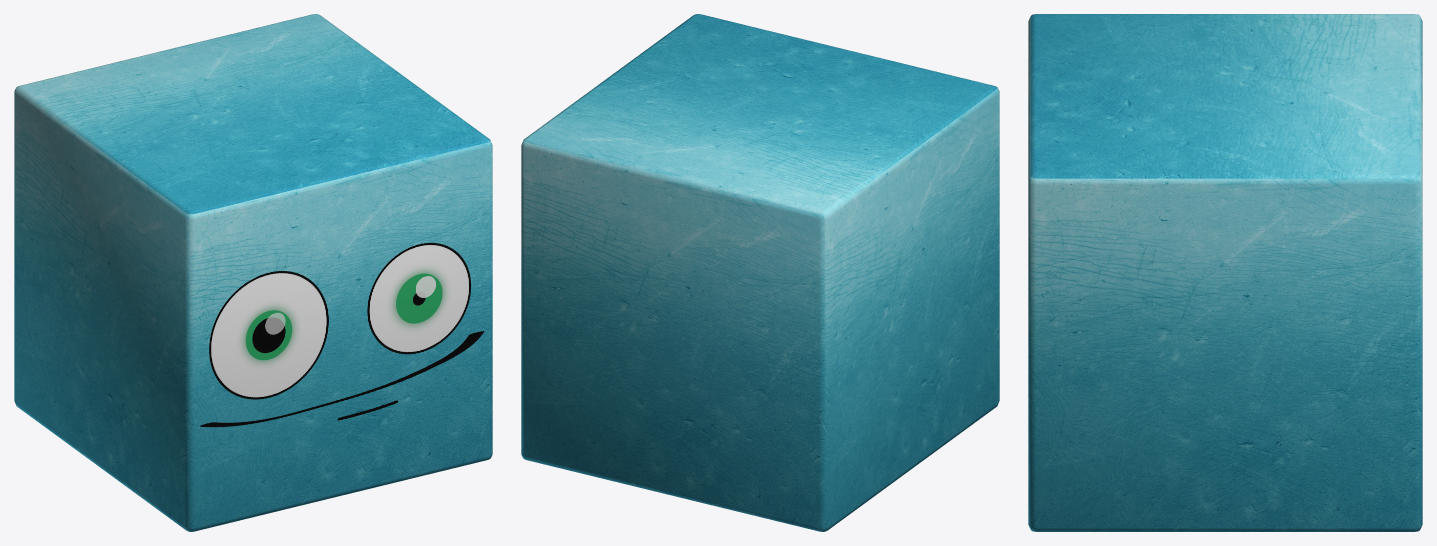
File: Rubber.FBX
The picture shows the model from 3 angles, left to right: view 1: azimuth 30°, elevation 25°; view 2: azimuth 150°, elevation 25°; view 3: azimuth 270°, elevation 25°; orthographic projection. The views are drawn at different scales.
Parts seen in each view (by area): view 1: hooker; view 2: hooker; view 3: hooker.
Boxes of the visible parts, x1,y1,x2,y2 form: hooker: [14, 14, 492, 531]; hooker: [521, 14, 999, 531]; hooker: [1028, 14, 1422, 531].
Size of the model in its own units: 100 by 100 by 100.
Materials: 2 (2 with a texture image).
